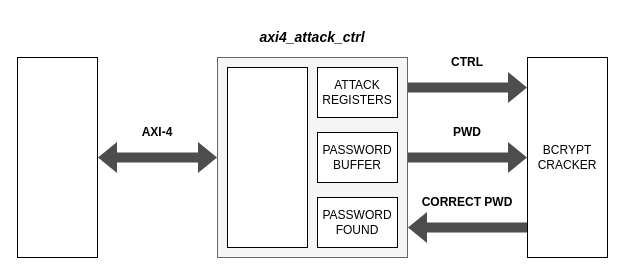
This 625x275 diagram has some shape labels left out. Each missing label, with the centre of its shape:
"AXI4 INTERFACE" belongs at pixel 267 157.
"XDMA" belongs at pixel 57 157.
